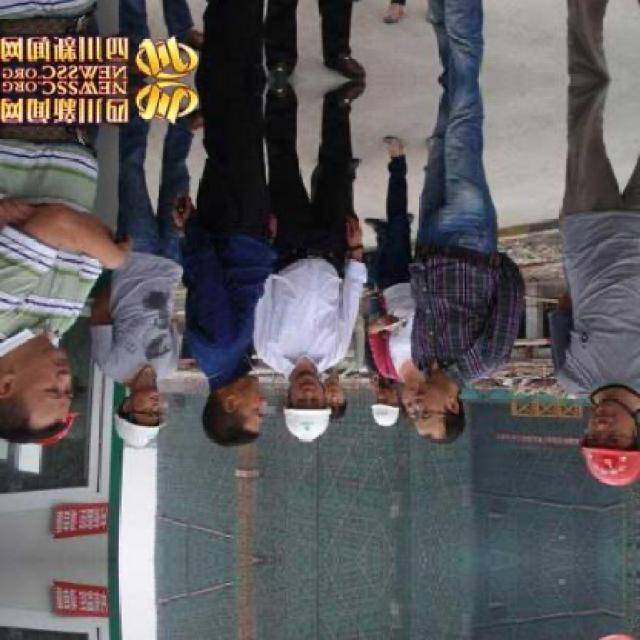con casco: (563, 374, 640, 517), (250, 366, 359, 437), (117, 382, 172, 458), (355, 386, 414, 439)
sin casco: (0, 322, 70, 449), (413, 388, 503, 464), (201, 367, 270, 449)
